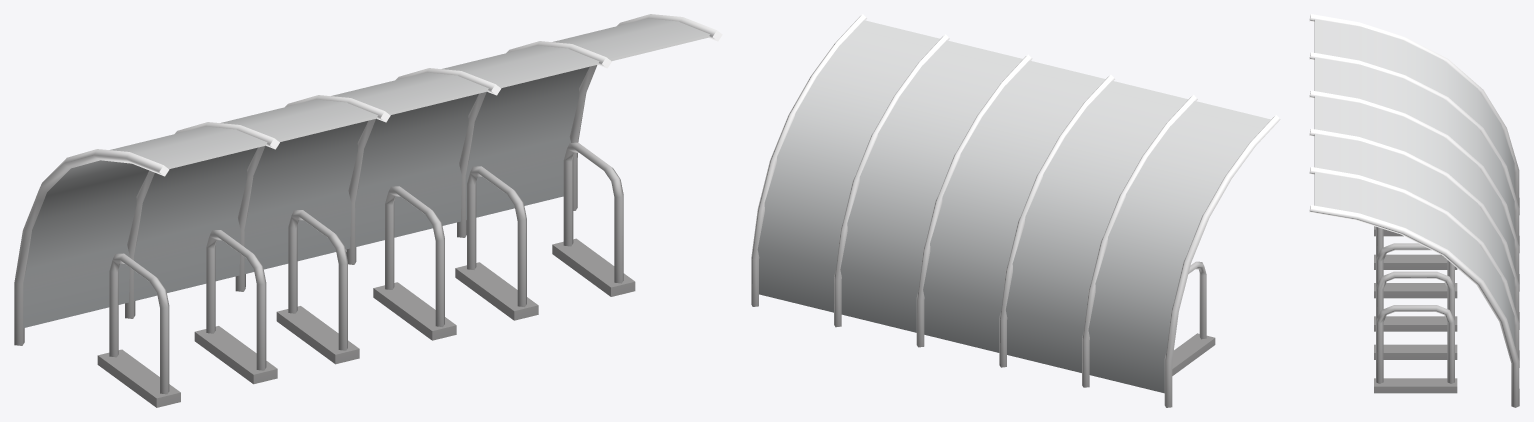
Rendered from Bike_Parking_01.glb.
The picture shows the model from 3 angles, left to right: view 1: azimuth 30°, elevation 25°; view 2: azimuth 150°, elevation 25°; view 3: azimuth 270°, elevation 25°; orthographic projection. The views are drawn at different scales.
Parts seen in each view (by area): view 1: Bike_Parking_01; view 2: Bike_Parking_01; view 3: Bike_Parking_01.
Boxes of the visible parts, left/top/right/bottom form: Bike_Parking_01: left=14, top=14, right=722, bottom=407; Bike_Parking_01: left=751, top=14, right=1280, bottom=407; Bike_Parking_01: left=1309, top=14, right=1519, bottom=407.
Bounding box in the file's own units: 5.15 × 2.48 × 2.35.
2 materials, 2 textured.
